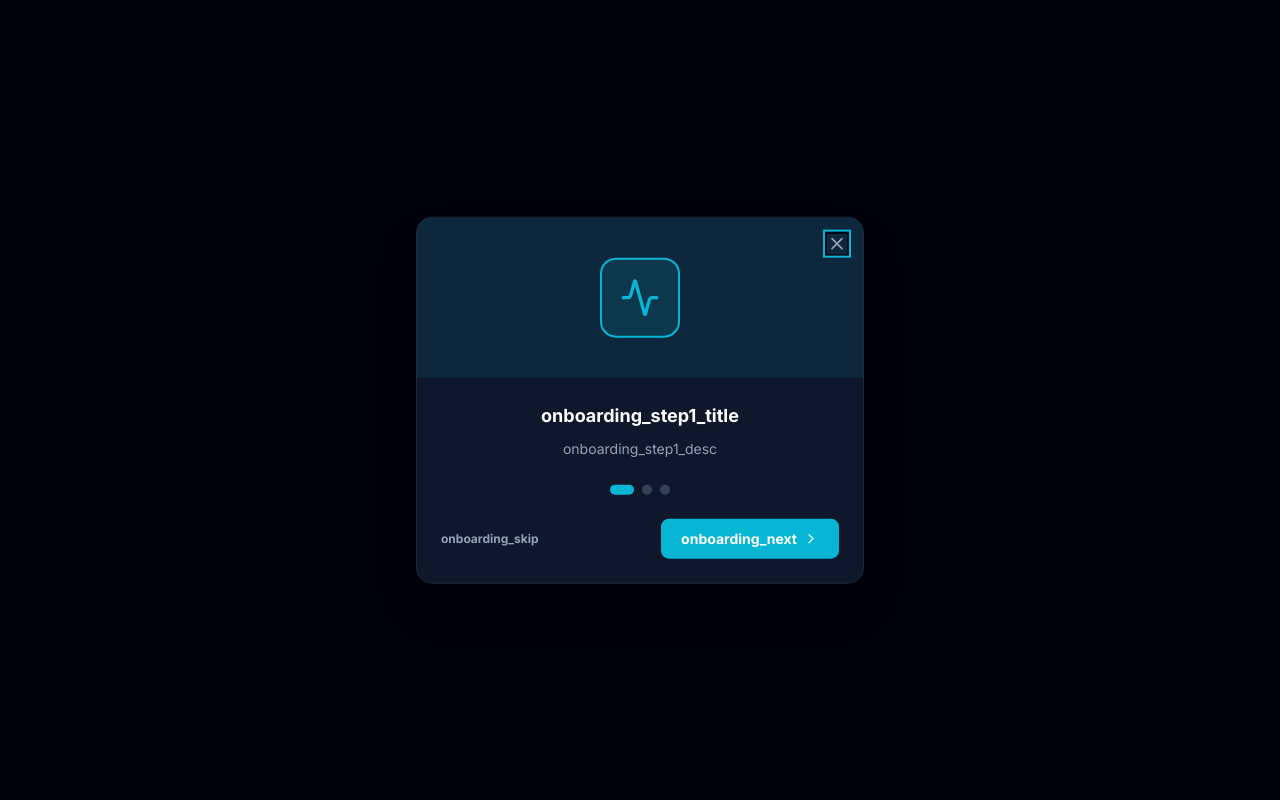
Test case: OnboardingWizard › advances to next step on Next click
Expected: the heading "onboarding_step1_title" is shown, [541, 405, 739, 426]
Click the button "onboarding_next". click: {"x": 750, "y": 538}
box: [661, 518, 839, 558]
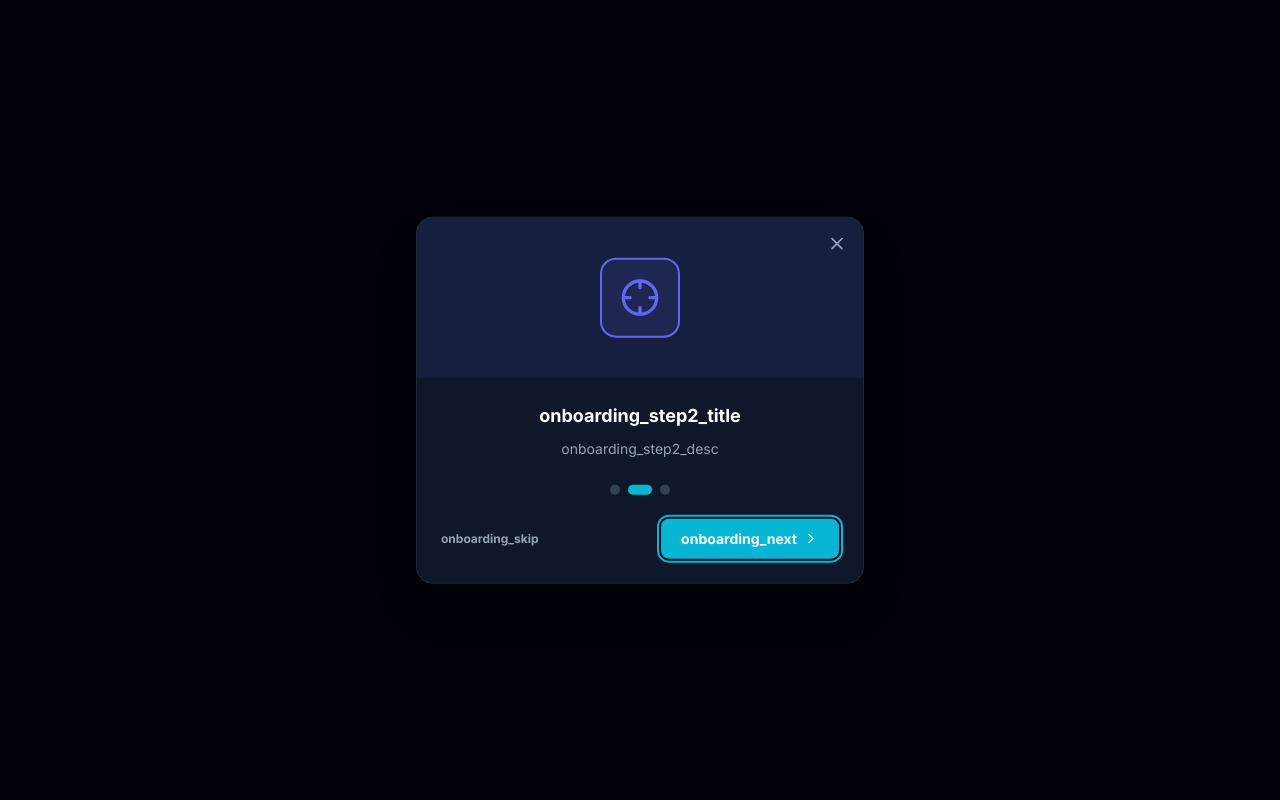
Expected: the heading "onboarding_step2_title" is shown, [539, 405, 741, 426]
Click the button "onboarding_next". click: {"x": 750, "y": 538}
box: [661, 518, 839, 558]
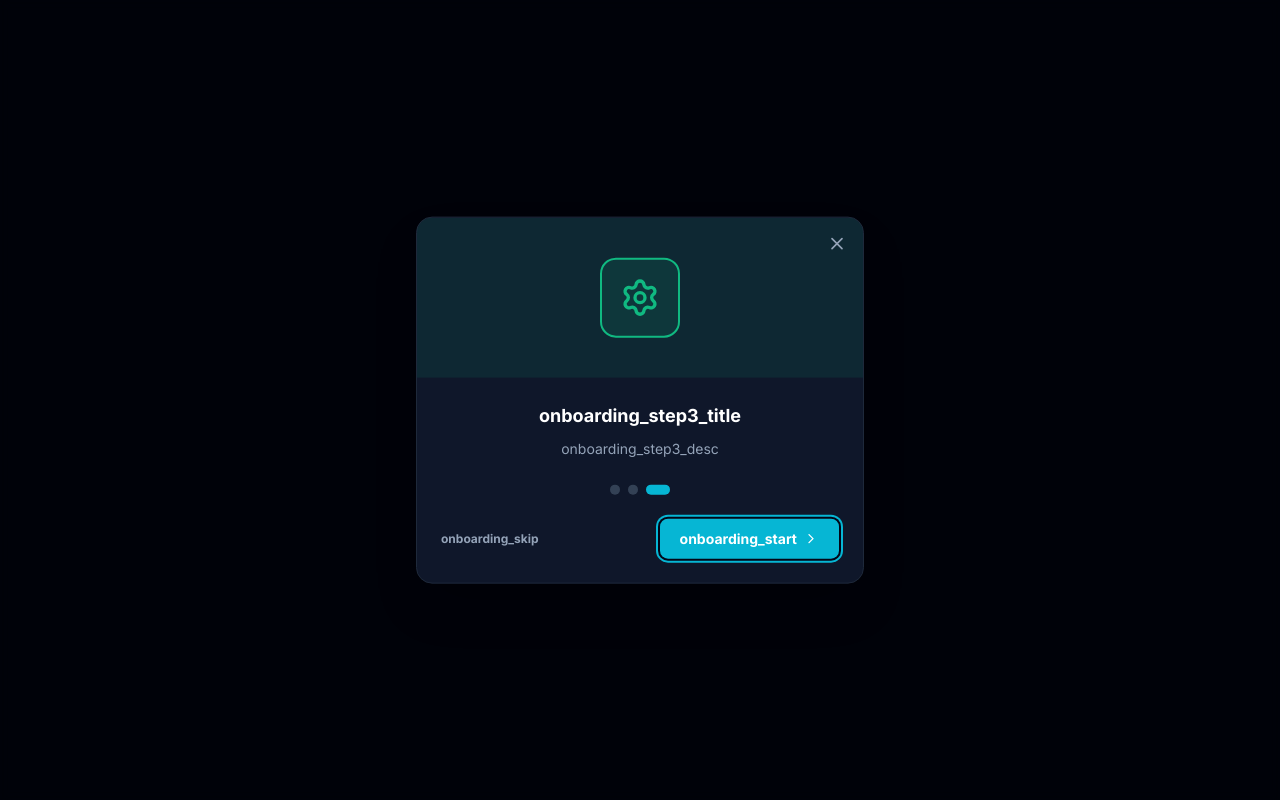
Expected: the heading "onboarding_step3_title" is shown, [539, 405, 741, 426]
Expected: the button "onboarding_start" is shown, [660, 518, 839, 558]
